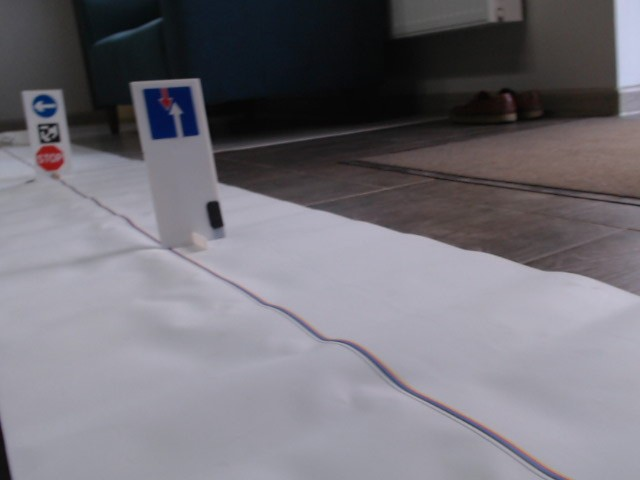Stop: (34, 144, 64, 172)
priority_movement: (141, 87, 205, 141)
